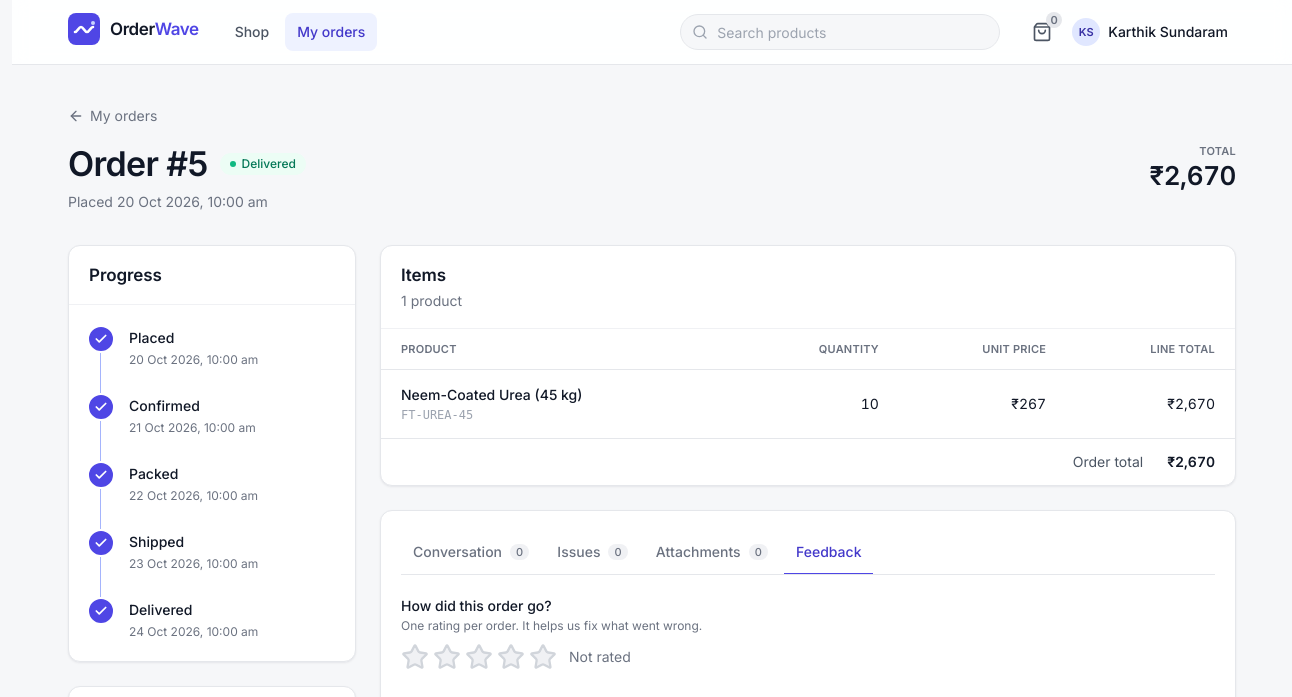
it: order detail › submits feedback on a delivered order and then shows it
Click the radio button named "4 stars". click: coordinates (511, 657)
box: [497,643,525,671]
(page scrolled)
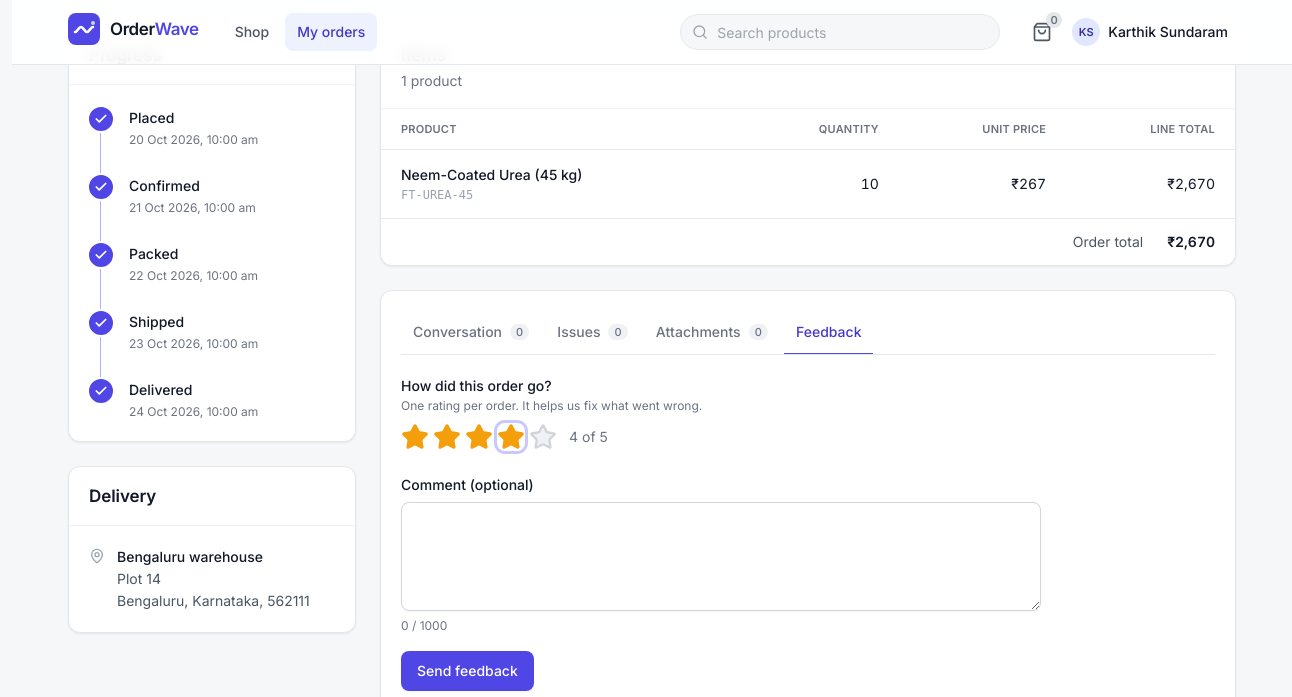
Type "On time, well packed." into the text box labelled "Comment (optional)". click: coordinates (721, 556)
box: [401,502,1041,611]
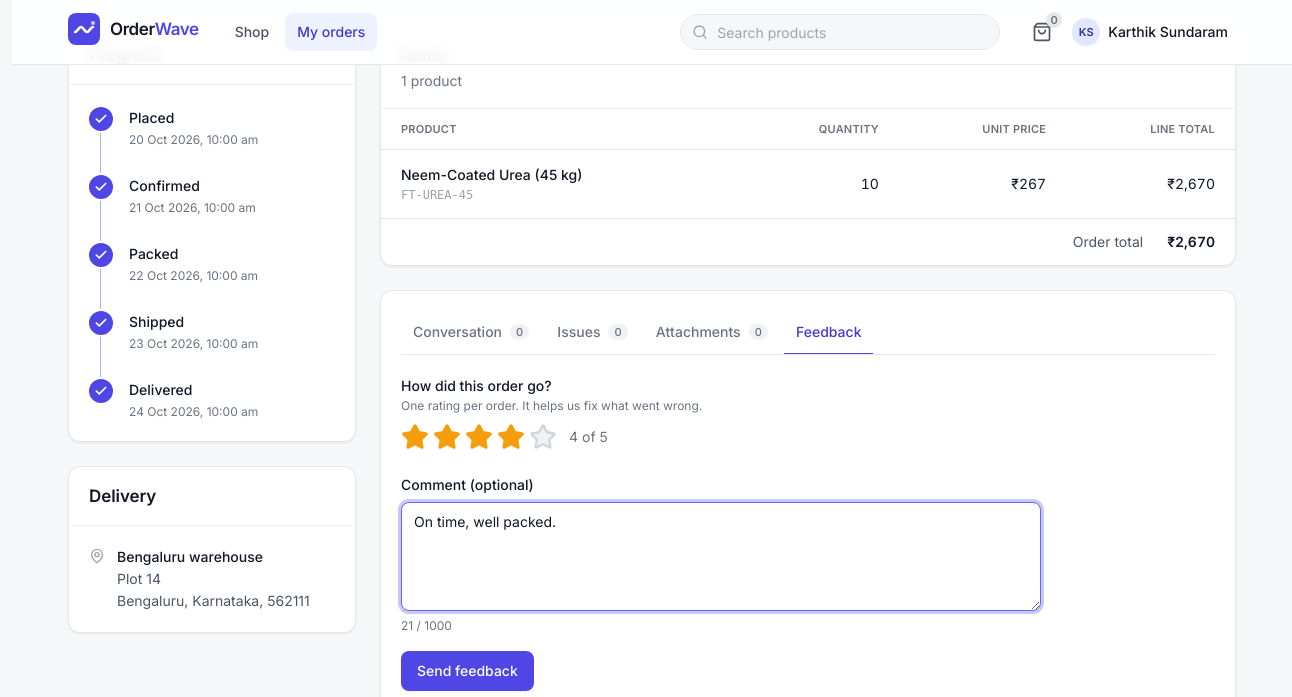
Click the button "Send feedback". click: coordinates (467, 671)
box: [401,651,534,691]
(page scrolled)
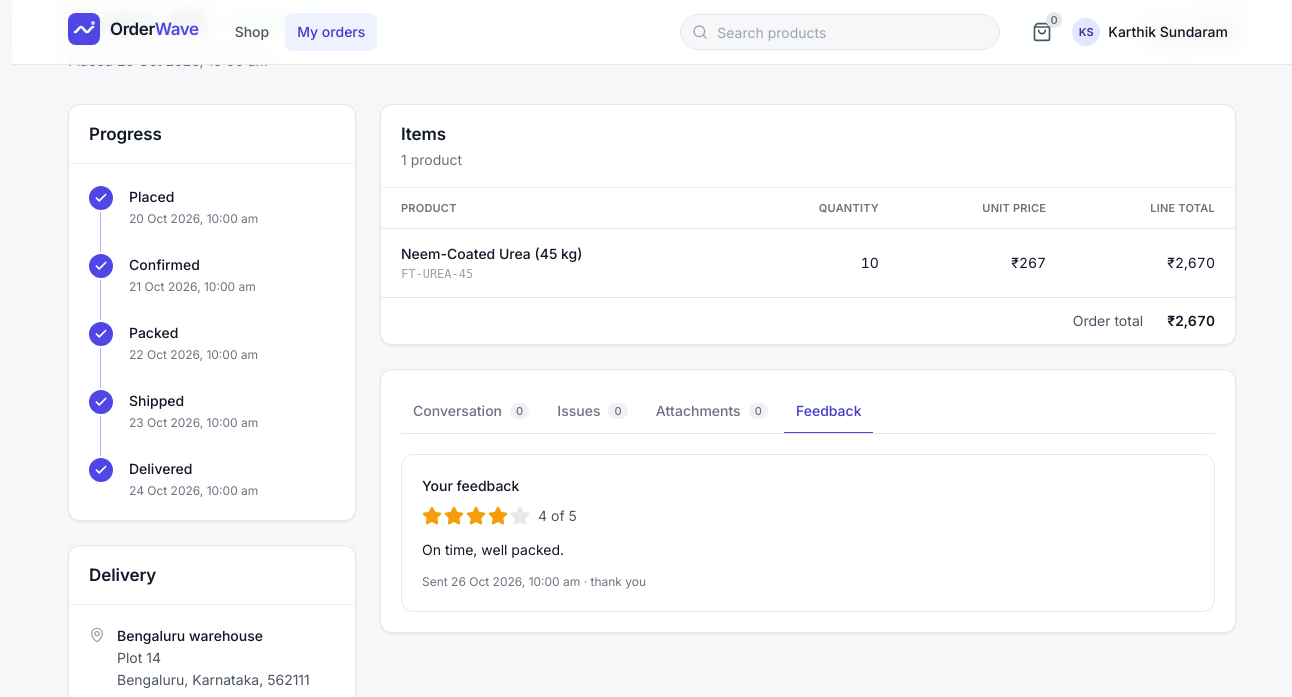
expect the text "Your feedback" is shown: met, box [422,477,519,494]
expect the text "On time, well packed." is shown: met, box [422,541,564,558]
